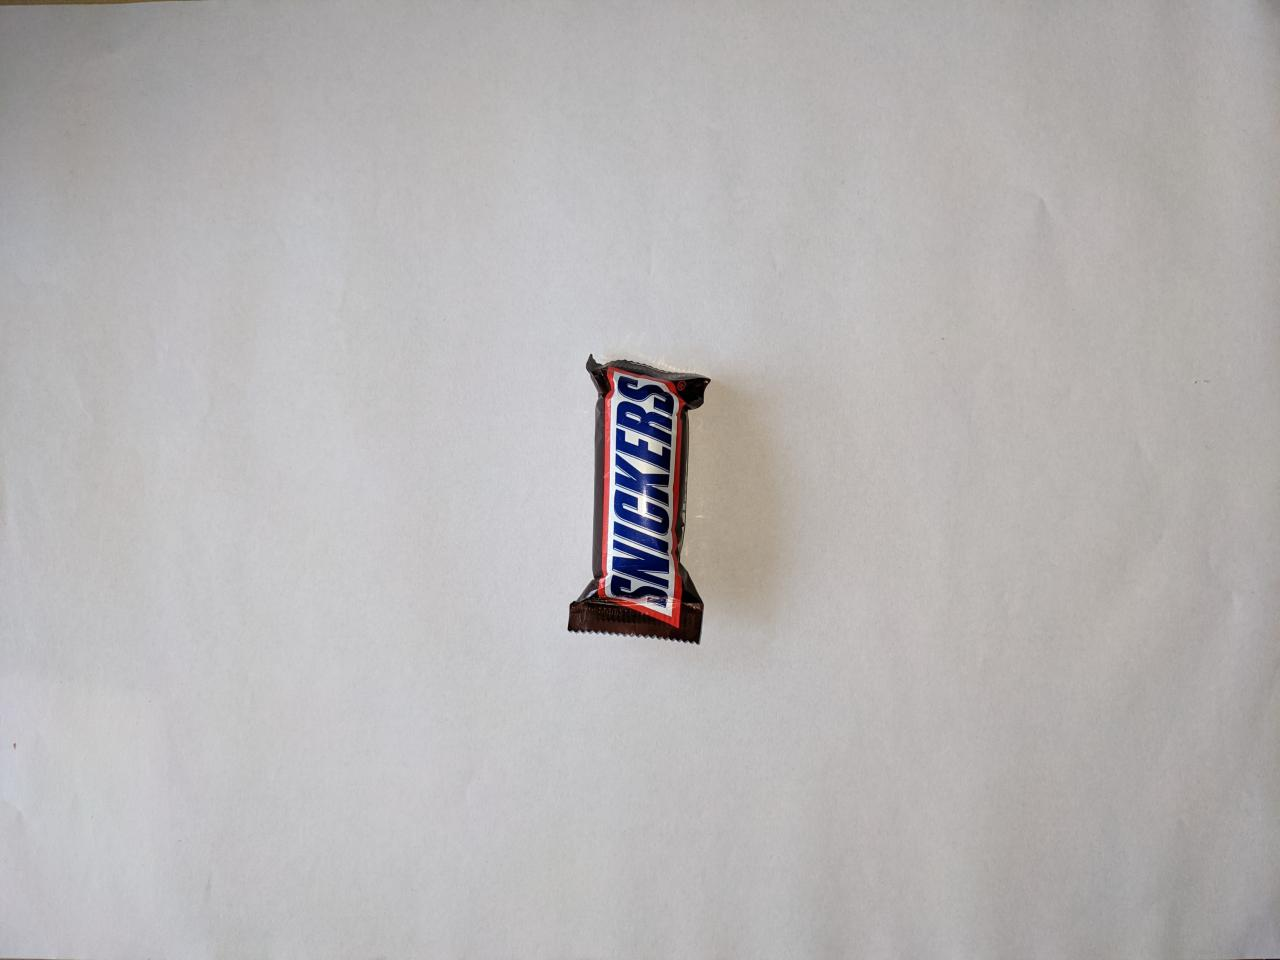Snickers: (556, 343, 720, 653)
